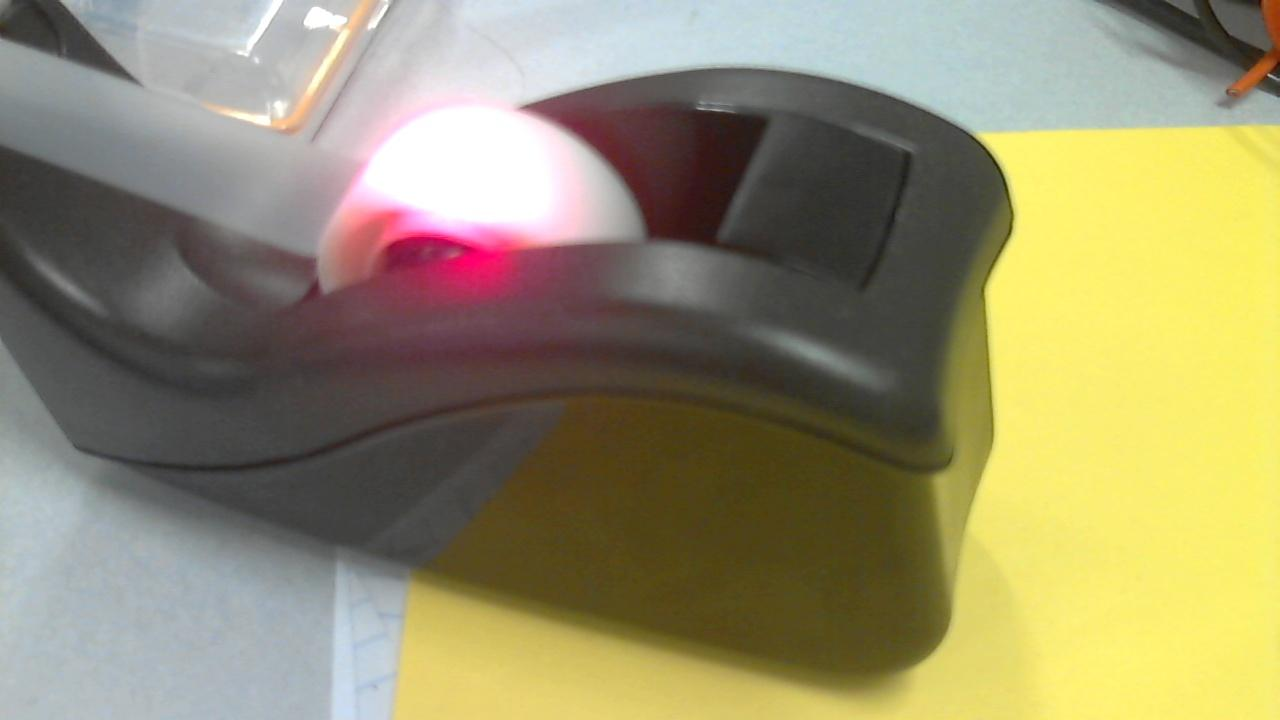Object desktop tape dispenser - Material plastic tape - Pdfname 8pMd29OsIRjD: (364, 97, 591, 253)
